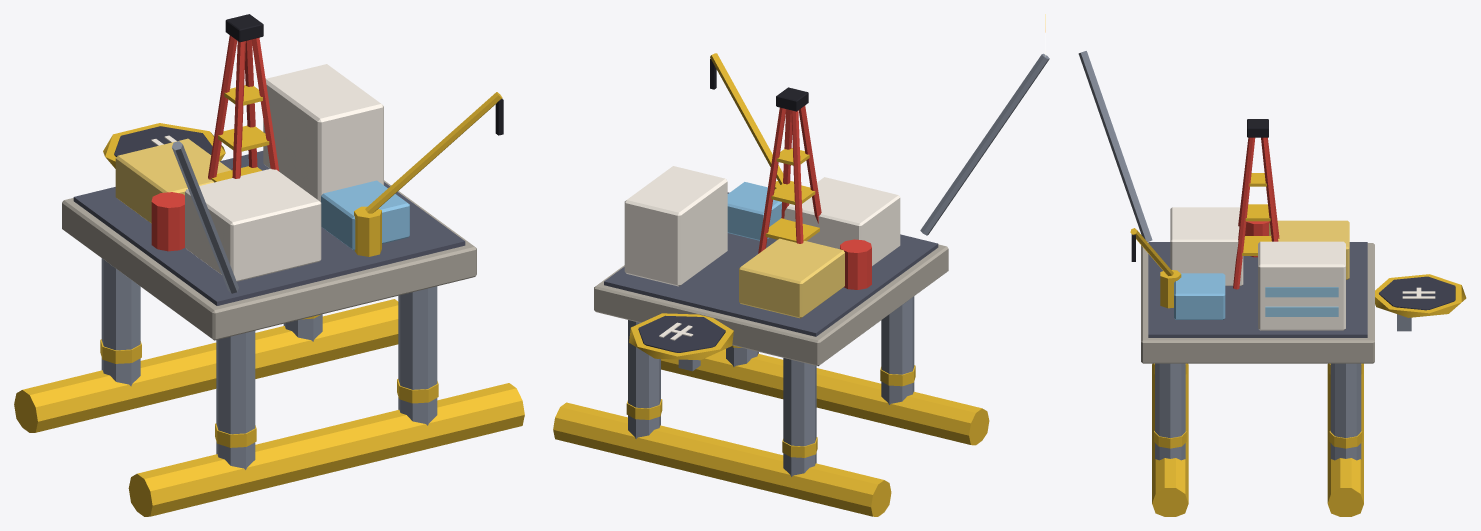
The model's file is oil_rig.glb.
3 views of the same model, side by side, from view 1: azimuth 30°, elevation 25°; view 2: azimuth 150°, elevation 25°; view 3: azimuth 270°, elevation 25° (orthographic). The views are drawn at different scales.
Parts seen in each view (by area): view 1: oil_rig; view 2: oil_rig; view 3: oil_rig.
Part boxes in pixels (<box>): oil_rig: <box>14,14,524,516</box>; oil_rig: <box>553,14,1049,516</box>; oil_rig: <box>1078,51,1466,516</box>.
Bounding box in the file's own units: 96.03 × 108 × 106.
1 material, 1 textured.
